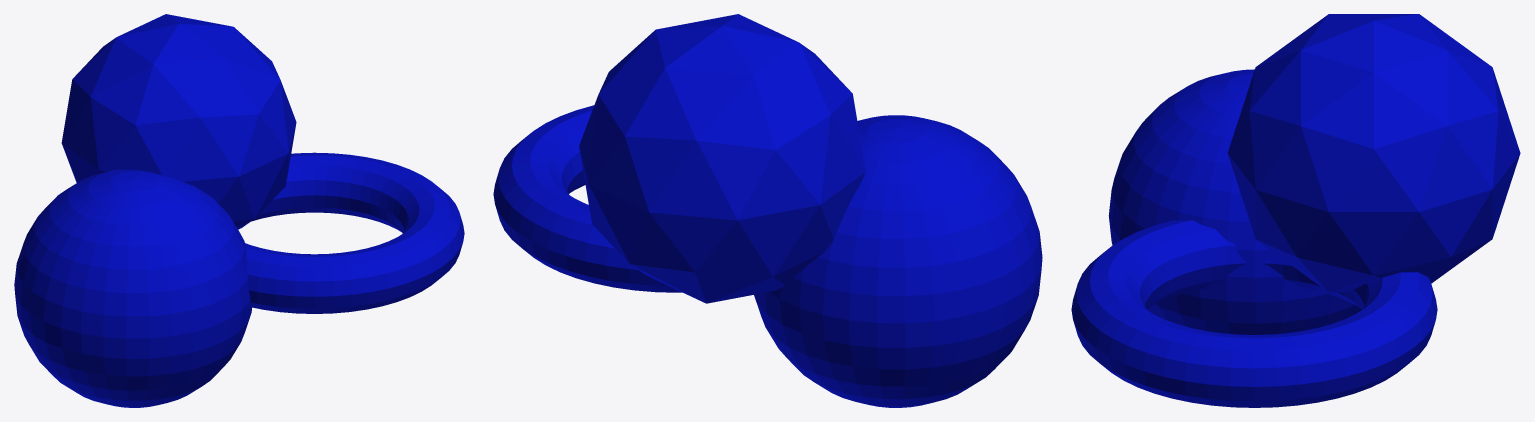
Rendered from fromblendertovecary.glb.
3 renders of one model, left to right at view 1: azimuth 30°, elevation 25°; view 2: azimuth 150°, elevation 25°; view 3: azimuth 270°, elevation 25°, orthographic. The views are drawn at different scales.
Visible parts, largest first — view 1: Torus; view 2: Torus; view 3: Torus.
Boxes of the visible parts, bbox=[...] form: Torus: bbox=[14, 14, 464, 407]; Torus: bbox=[493, 14, 1042, 407]; Torus: bbox=[1071, 14, 1520, 407].
Bounding box in the file's own units: 0.0119 × 0.00867 × 0.0092.
